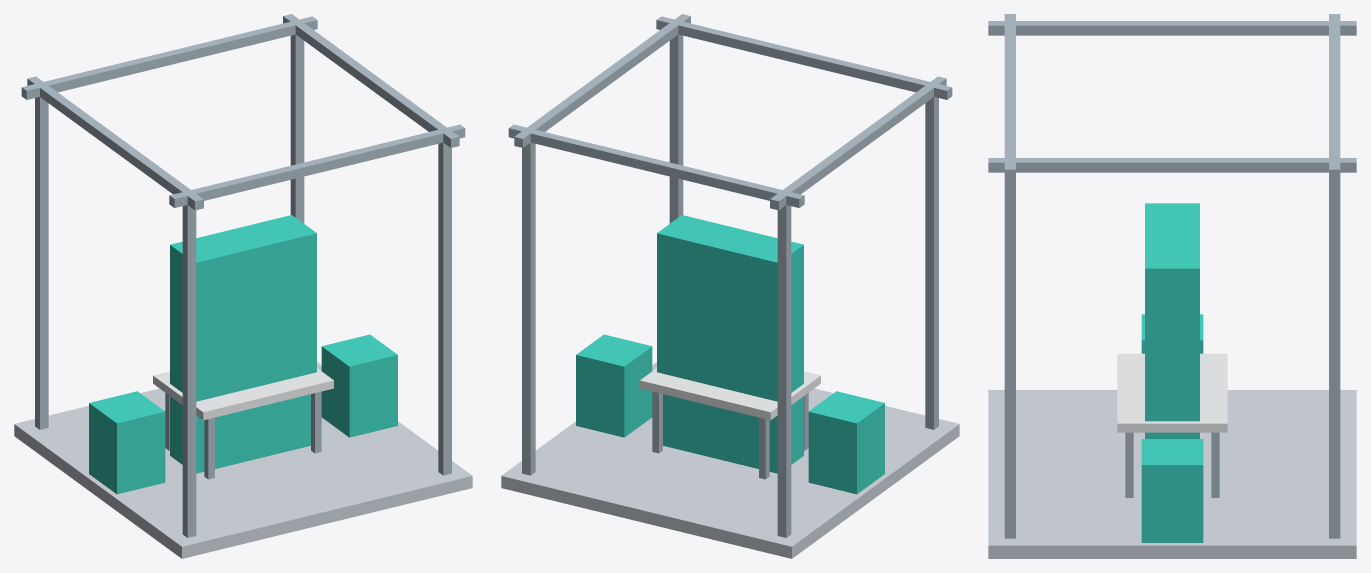
3 views of the same model, side by side, from view 1: azimuth 30°, elevation 25°; view 2: azimuth 150°, elevation 25°; view 3: azimuth 270°, elevation 25° (orthographic). The views are drawn at different scales.
Visible parts, largest first — view 1: Exhibition Booth Concept; view 2: Exhibition Booth Concept; view 3: Exhibition Booth Concept.
Part boxes in pixels (x1,y1,x2,y2): Exhibition Booth Concept: (14,14,472,558); Exhibition Booth Concept: (501,14,959,558); Exhibition Booth Concept: (988,14,1356,558).
Size of the model in its own units: 3 by 3.49 by 3.
